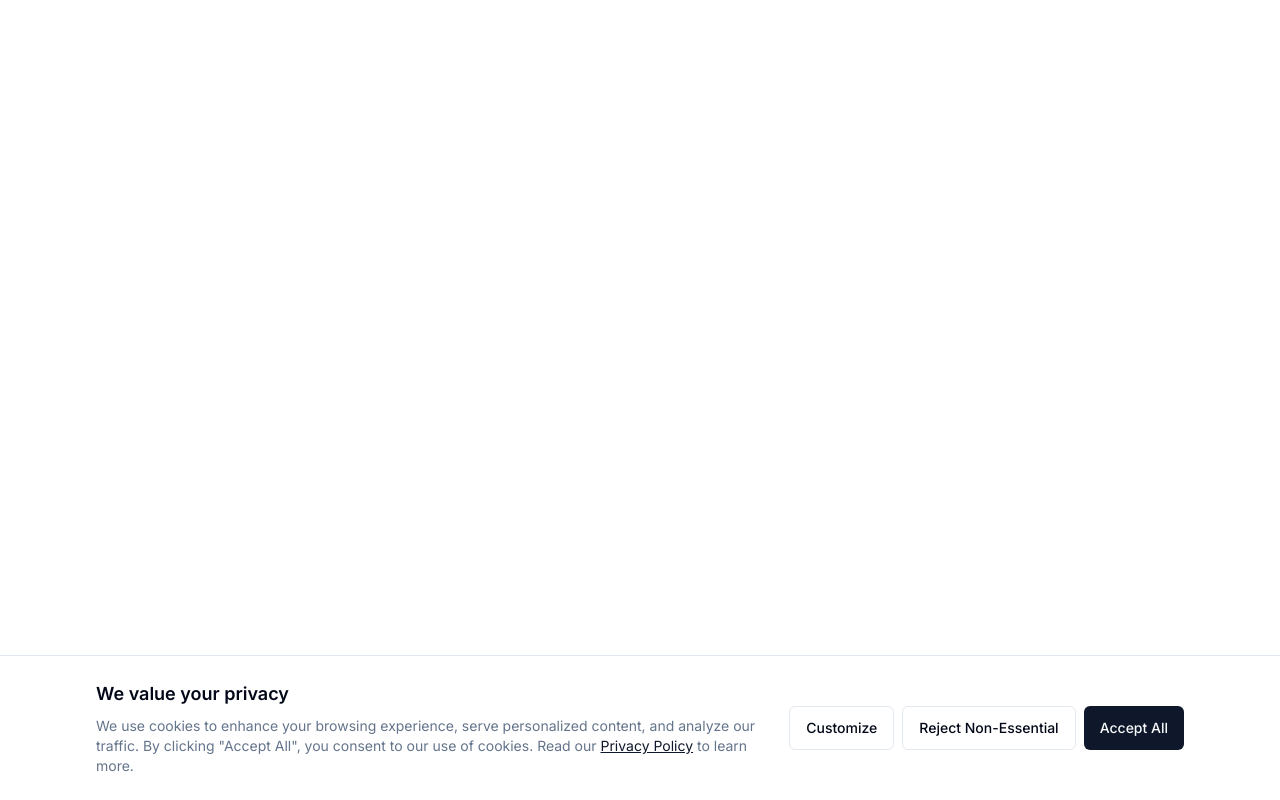
Scenario: CookieConsentBanner › customize dialog › closes dialog when Cancel is clicked
This screenshot has width=1280, height=800.
Click the button with test id "cookie-customize-btn" at (842, 728), box [789,706,894,750]
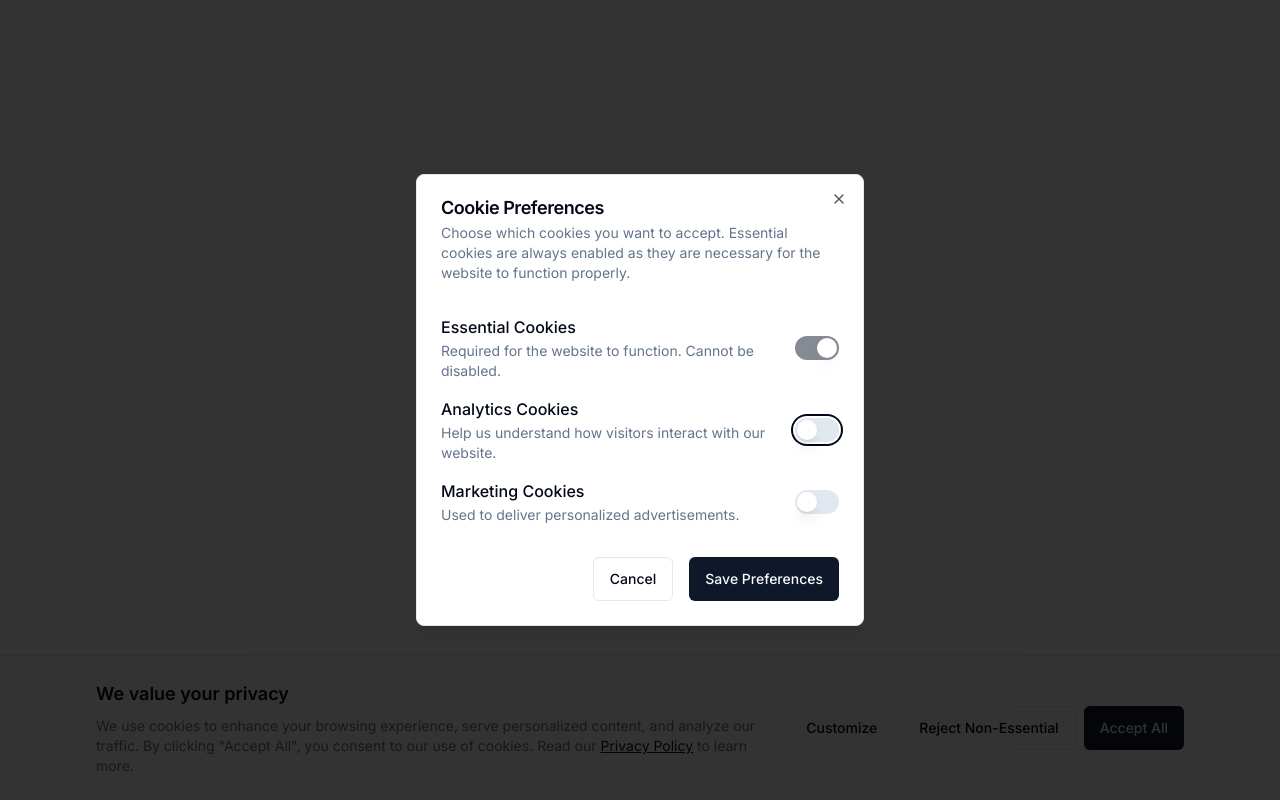
Expected: the heading "Cookie Preferences" is shown, [441,197,604,218]
Click the button "Cancel" at (633, 579), box [593,557,673,601]
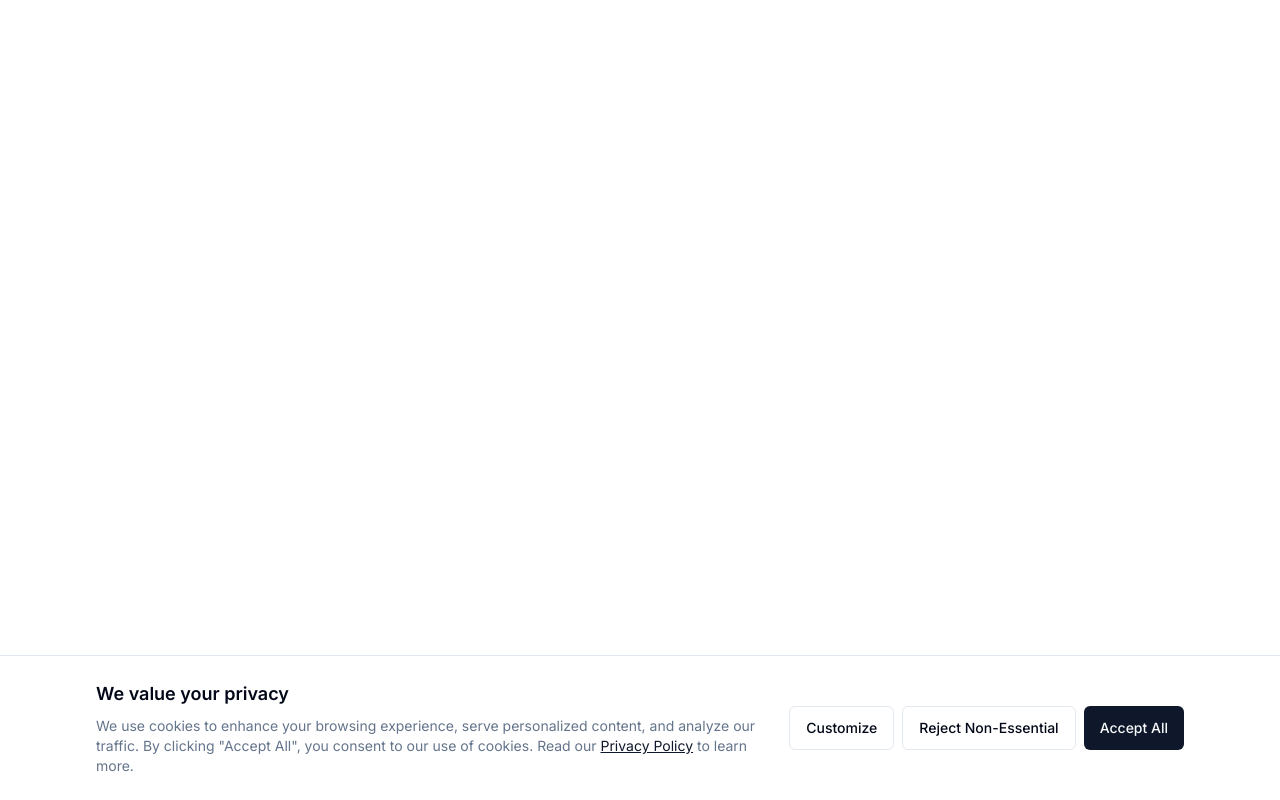
Expected: the heading "Cookie Preferences" is gone
